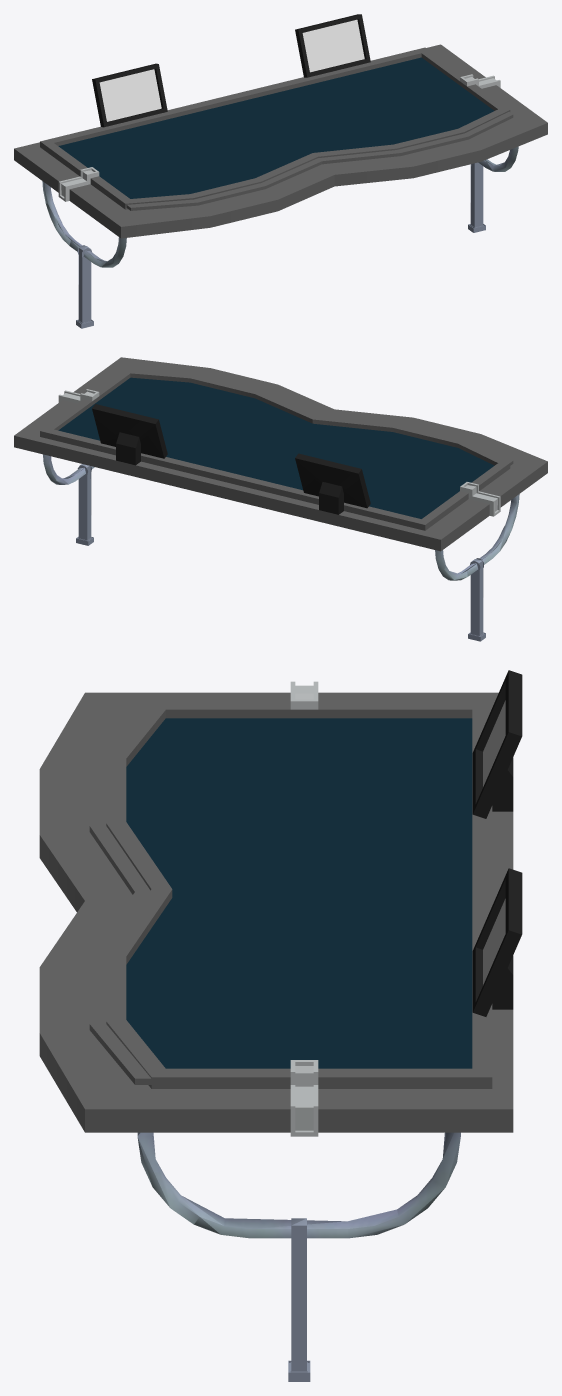
Rendered from Scifi table.fbx.
The picture shows the model from 3 angles, top to bottom: view 1: azimuth 30°, elevation 25°; view 2: azimuth 150°, elevation 25°; view 3: azimuth 270°, elevation 25°; orthographic projection. The views are drawn at different scales.
Visible parts, largest first — view 1: Scifi_Table; view 2: Scifi_Table; view 3: Scifi_Table.
Part boxes in pixels (box(x1,y1,x2,y2)): Scifi_Table: box(14, 14, 547, 328); Scifi_Table: box(14, 357, 547, 641); Scifi_Table: box(39, 670, 522, 1381).
Size of the model in its own units: 301 by 127 by 144.
7 materials, 5 textured.
